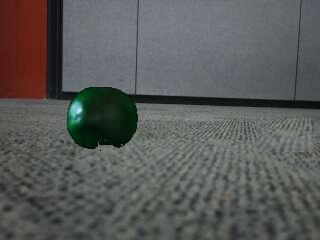Lime: (64, 85, 140, 151)
